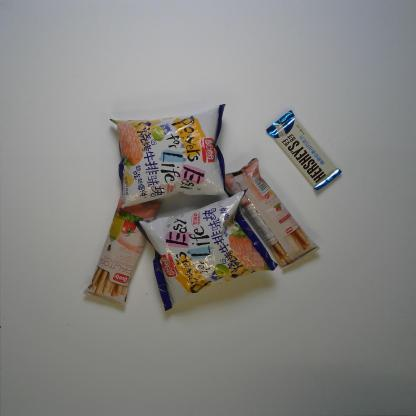Chocolate: (265, 109, 343, 192)
Dessert: (224, 156, 321, 272), (82, 188, 162, 310)
Puffed Food: (133, 185, 279, 314), (108, 103, 232, 212)
